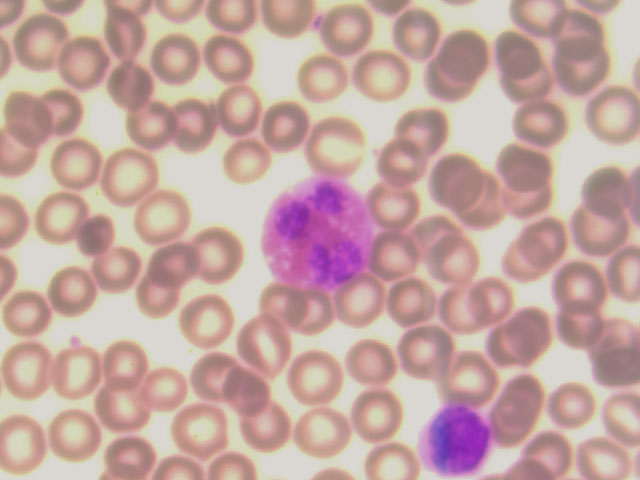Platelets: (65, 329, 82, 348)
RBC: (202, 33, 254, 86), (154, 29, 206, 82), (102, 58, 154, 111), (56, 38, 108, 91), (16, 14, 68, 67), (41, 86, 93, 139), (5, 90, 57, 143), (49, 140, 101, 193), (107, 148, 159, 201), (134, 192, 186, 245), (74, 210, 126, 263), (35, 191, 87, 244), (50, 269, 102, 322), (92, 242, 144, 295), (139, 273, 191, 326), (141, 241, 193, 294), (194, 229, 246, 282), (180, 290, 232, 343), (186, 346, 238, 399), (131, 367, 183, 420), (83, 386, 135, 439), (99, 333, 151, 386), (56, 349, 108, 402), (6, 342, 58, 395), (3, 292, 55, 345), (1, 415, 53, 468), (53, 411, 105, 464), (101, 427, 153, 480), (171, 405, 223, 458), (223, 364, 275, 417), (238, 402, 290, 455), (299, 409, 351, 462), (345, 387, 397, 440), (343, 339, 395, 392), (289, 351, 341, 404), (238, 318, 290, 371), (254, 277, 306, 330), (294, 289, 346, 342), (334, 274, 386, 327), (381, 278, 433, 331), (372, 234, 424, 287), (371, 183, 423, 236), (376, 138, 428, 191), (398, 107, 450, 160), (309, 120, 361, 173), (260, 100, 312, 153), (228, 137, 280, 190), (216, 82, 268, 135), (170, 98, 222, 151), (133, 98, 185, 151), (296, 55, 348, 108), (359, 51, 411, 104), (392, 7, 444, 60), (320, 1, 372, 54), (430, 153, 482, 206), (456, 177, 508, 230), (411, 208, 463, 261), (433, 238, 485, 291), (478, 271, 530, 324), (433, 290, 485, 343), (400, 325, 452, 378), (448, 352, 500, 405), (498, 373, 550, 426), (550, 382, 602, 435), (578, 427, 630, 480), (520, 427, 572, 480), (512, 310, 564, 363), (478, 319, 530, 372), (554, 303, 606, 356), (554, 256, 606, 309), (527, 220, 579, 273), (501, 230, 553, 283), (502, 179, 554, 232), (498, 141, 550, 194), (511, 98, 563, 151), (499, 57, 551, 110), (497, 24, 549, 77), (440, 28, 492, 81), (418, 50, 470, 103), (562, 11, 614, 64), (561, 44, 613, 97), (588, 92, 640, 145), (580, 161, 632, 214), (571, 197, 623, 250), (588, 343, 640, 396), (263, 1, 317, 43)
WBC: (263, 174, 369, 290), (420, 405, 491, 476)
